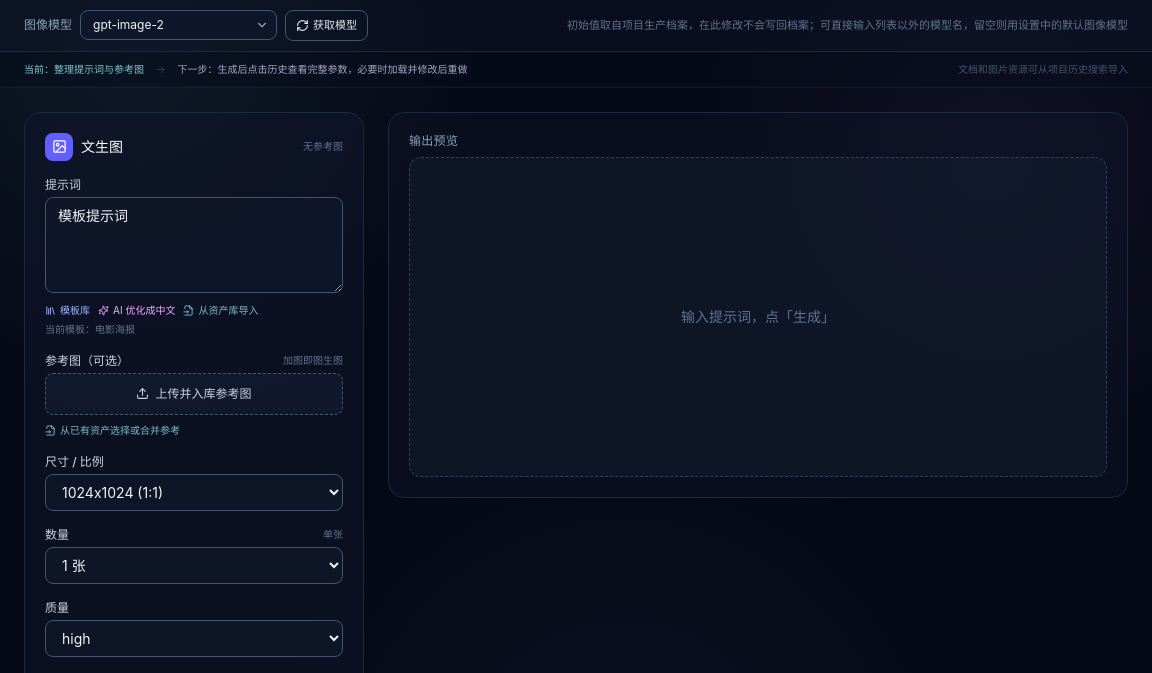
it: GeneratePanel prompt template › drops the template when the prompt is edited by hand
Expected: the text "当前模板：电影海报" is shown, [45, 322, 135, 334]
Replace the text in the text box with placeholder "描述你想生成的画面…（Ctrl+Enter 生成）" with "模板提示词，再加一句" at (194, 244), box [45, 196, 343, 292]
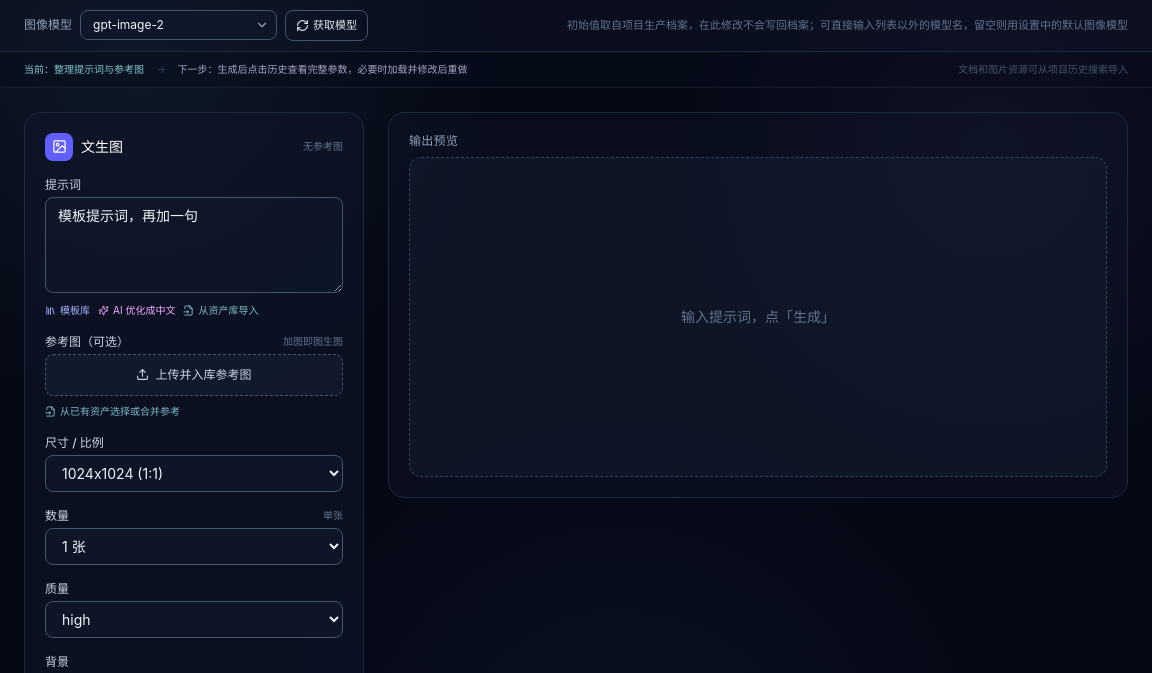
Expected: the text "当前模板：" is gone
